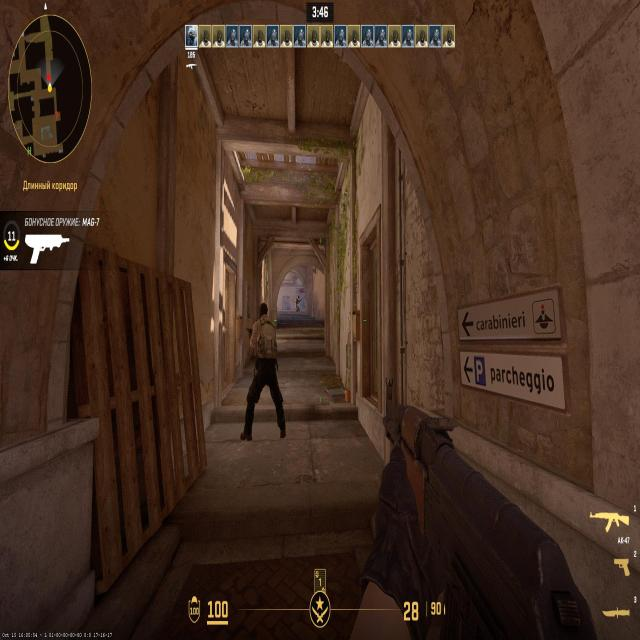T: (258, 307, 276, 410)
T_heat: (262, 313, 268, 330)
